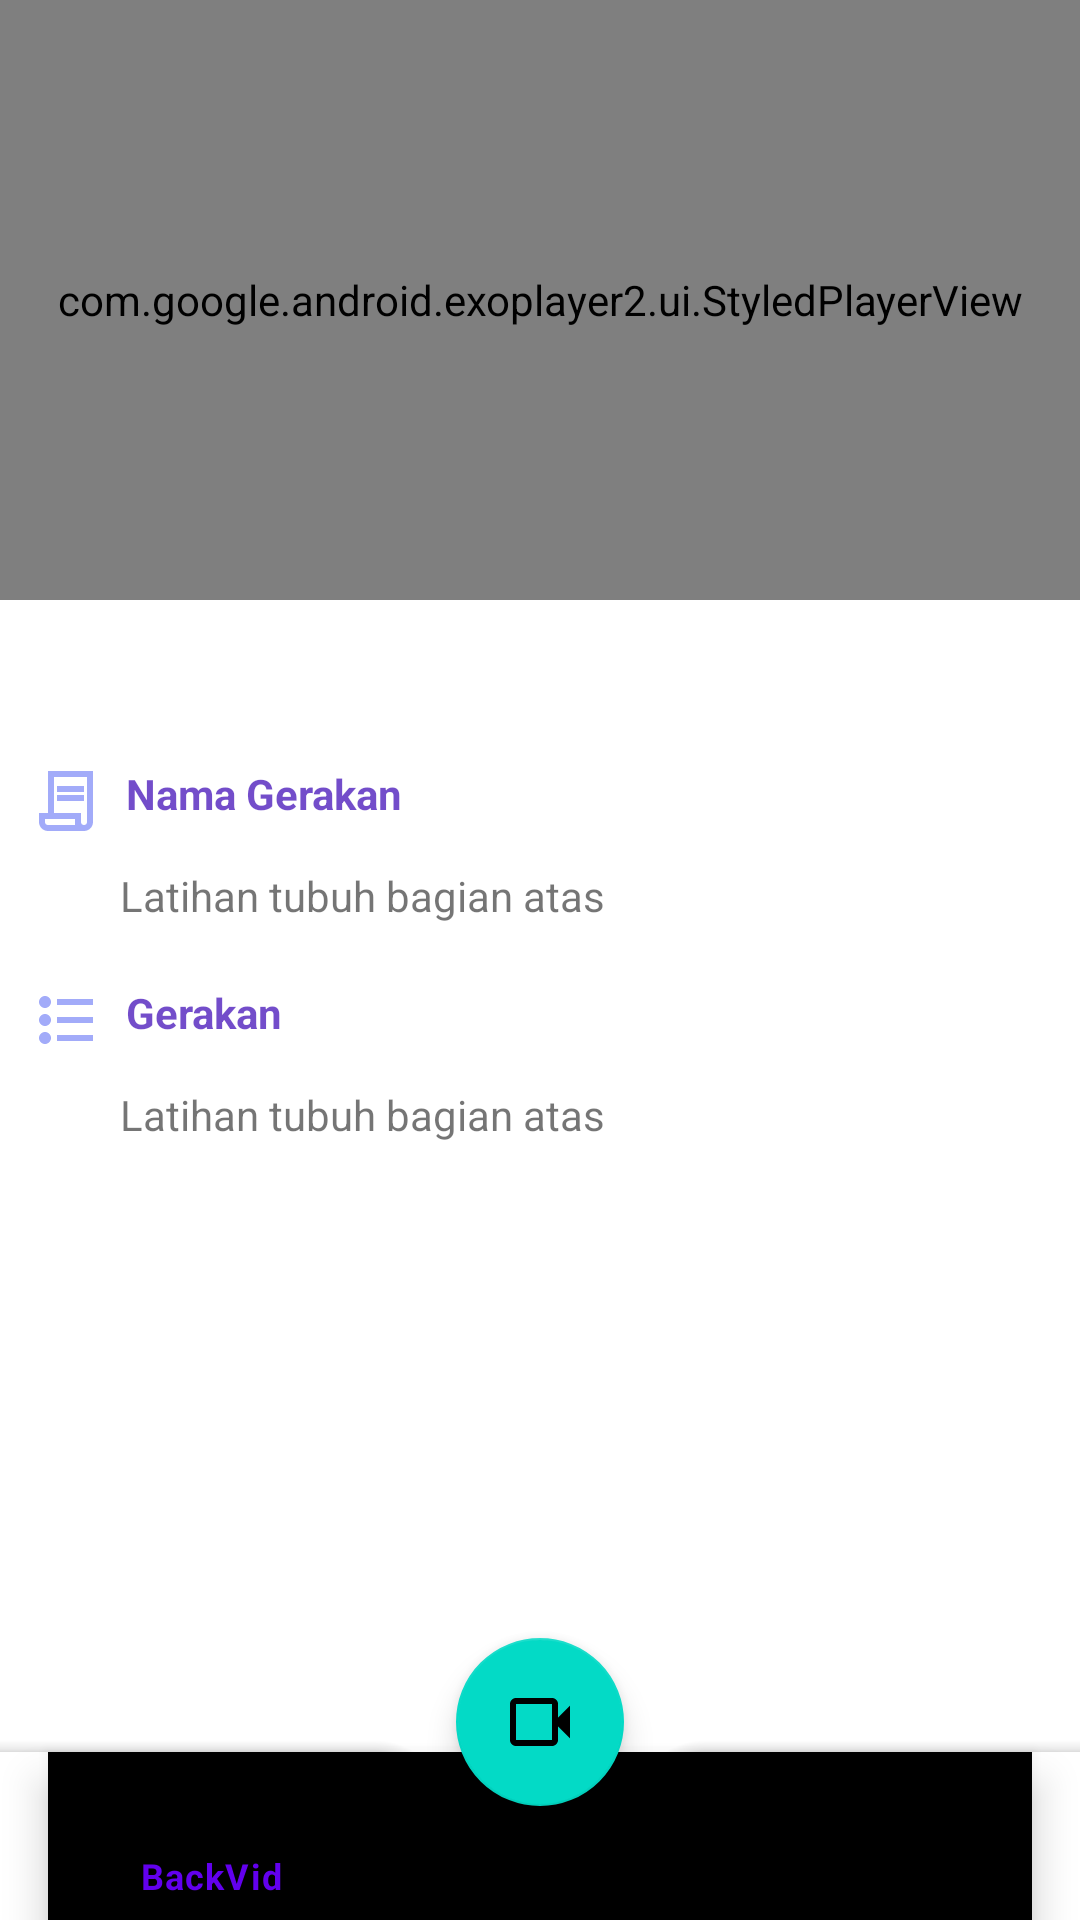

Icon click points for this 1080x1920 phone screenshot, format (x,y):
video: (540,1752)
